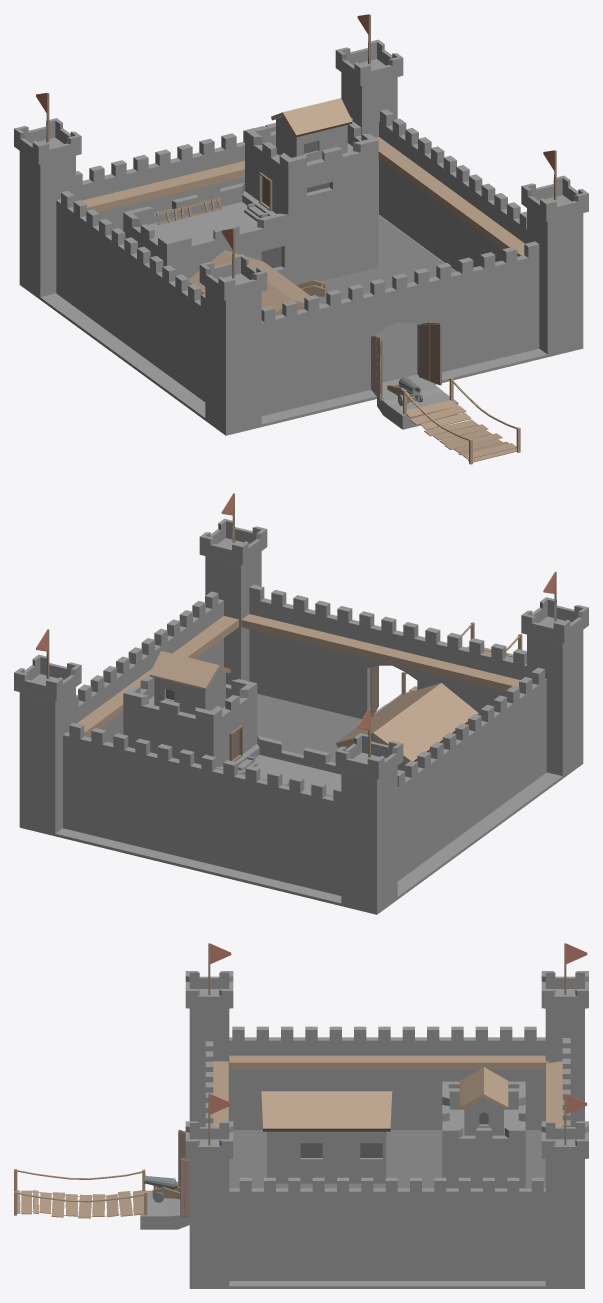
The model's file is castle.glb.
The picture shows the model from 3 angles, top to bottom: view 1: azimuth 30°, elevation 25°; view 2: azimuth 150°, elevation 25°; view 3: azimuth 270°, elevation 25°; orthographic projection. The views are drawn at different scales.
Bounding box in the file's own units: 2040 × 1105 × 2909.
Materials: 1 (1 with a texture image).
